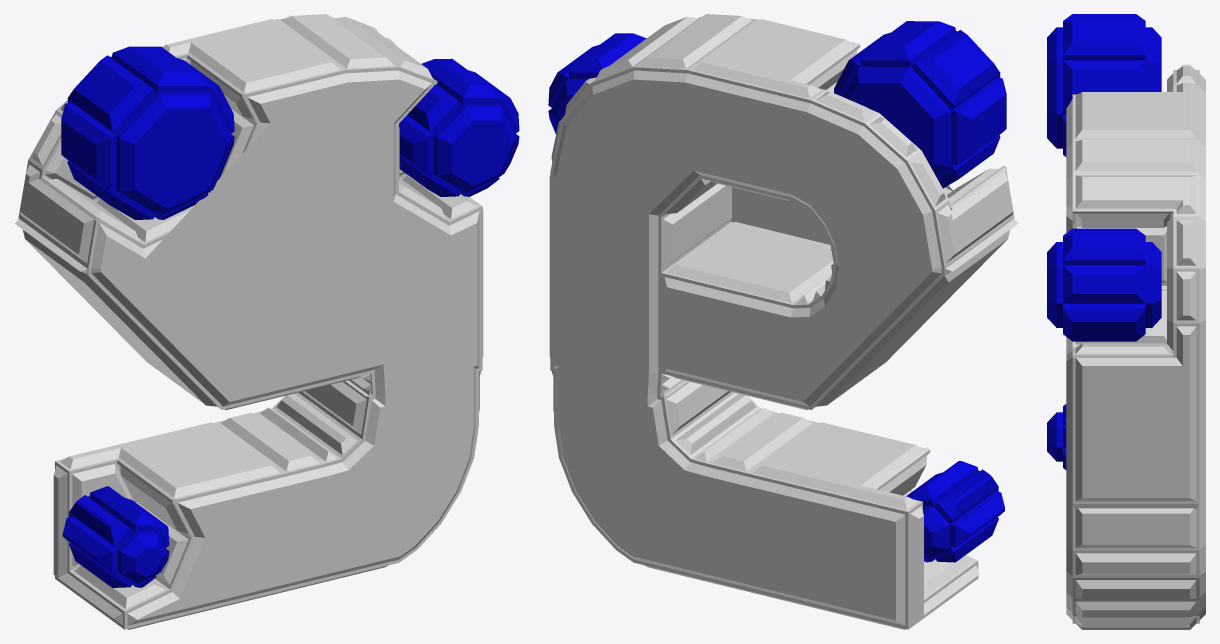
3 renders of one model, left to right at view 1: azimuth 30°, elevation 25°; view 2: azimuth 150°, elevation 25°; view 3: azimuth 270°, elevation 25°, orthographic. The views are drawn at different scales.
Visible parts, largest first — view 1: sphere1; view 2: sphere1; view 3: sphere1.
Boxes of the visible parts, bbox=[...] form: sphere1: bbox=[15, 14, 519, 629]; sphere1: bbox=[548, 14, 1018, 629]; sphere1: bbox=[1047, 14, 1205, 629].
Size of the model in its own units: 0.7222 by 0.8767 by 0.2503.
